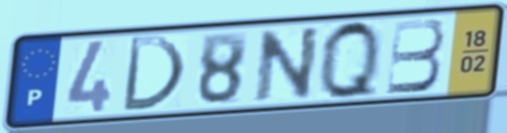4: (64, 37, 115, 117)
8: (195, 30, 249, 107)
B: (384, 15, 448, 97)
D: (119, 33, 189, 114)
N: (253, 23, 324, 105)
Q: (318, 16, 382, 103)
